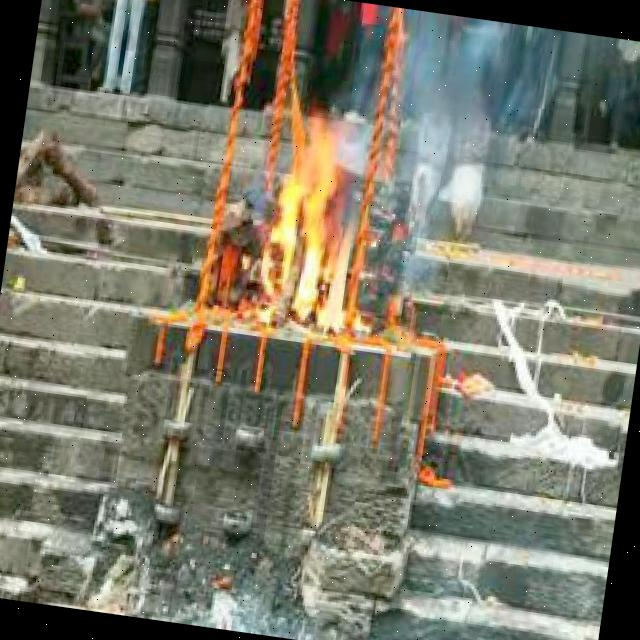fire: (247, 132, 369, 344)
